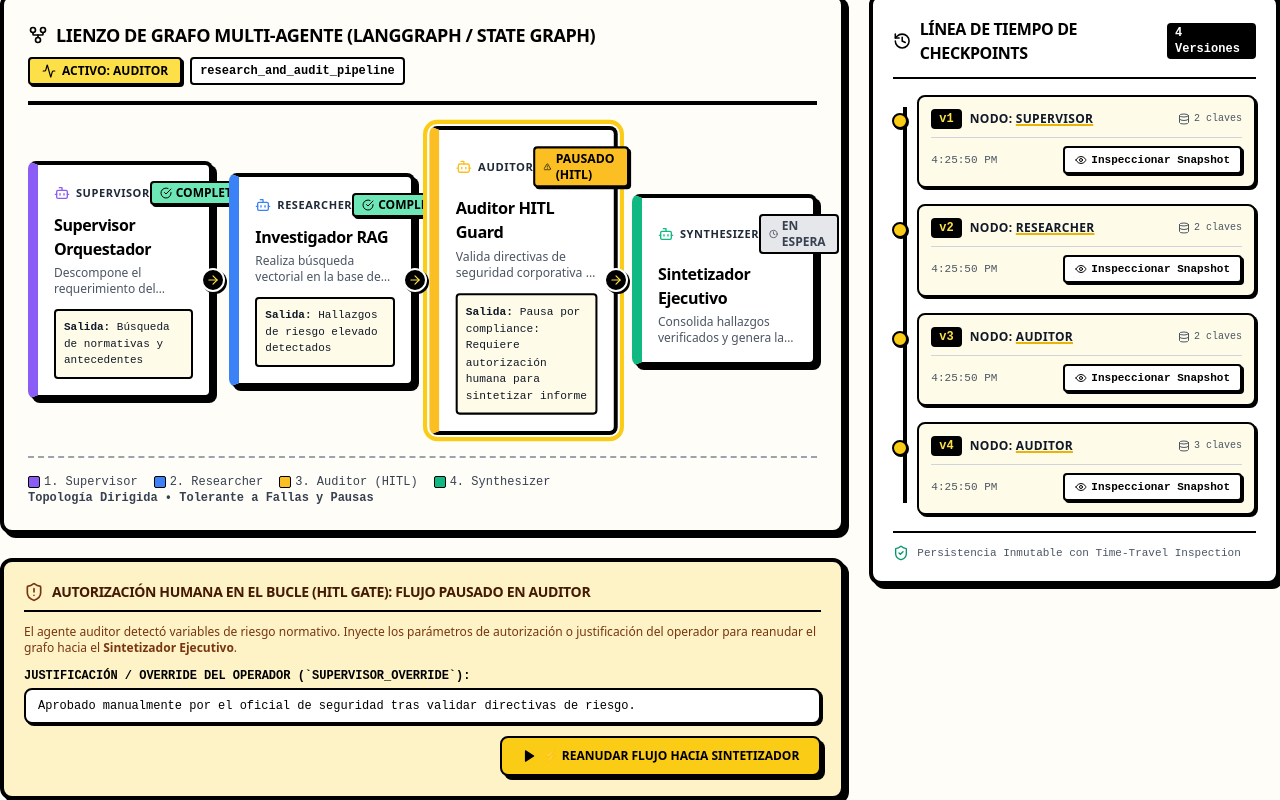
Test: WorkflowsDashboardPanel Component › allows resuming the paused workflow from the resume controls
(page scrolled)
Expected: the element with test id "workflow-resume-controls" is shown, [0,558,845,799]
Click the button "⚡ Reanudar Flujo hacia Sintetizador": (660,756) [500,736,821,776]
(page scrolled)
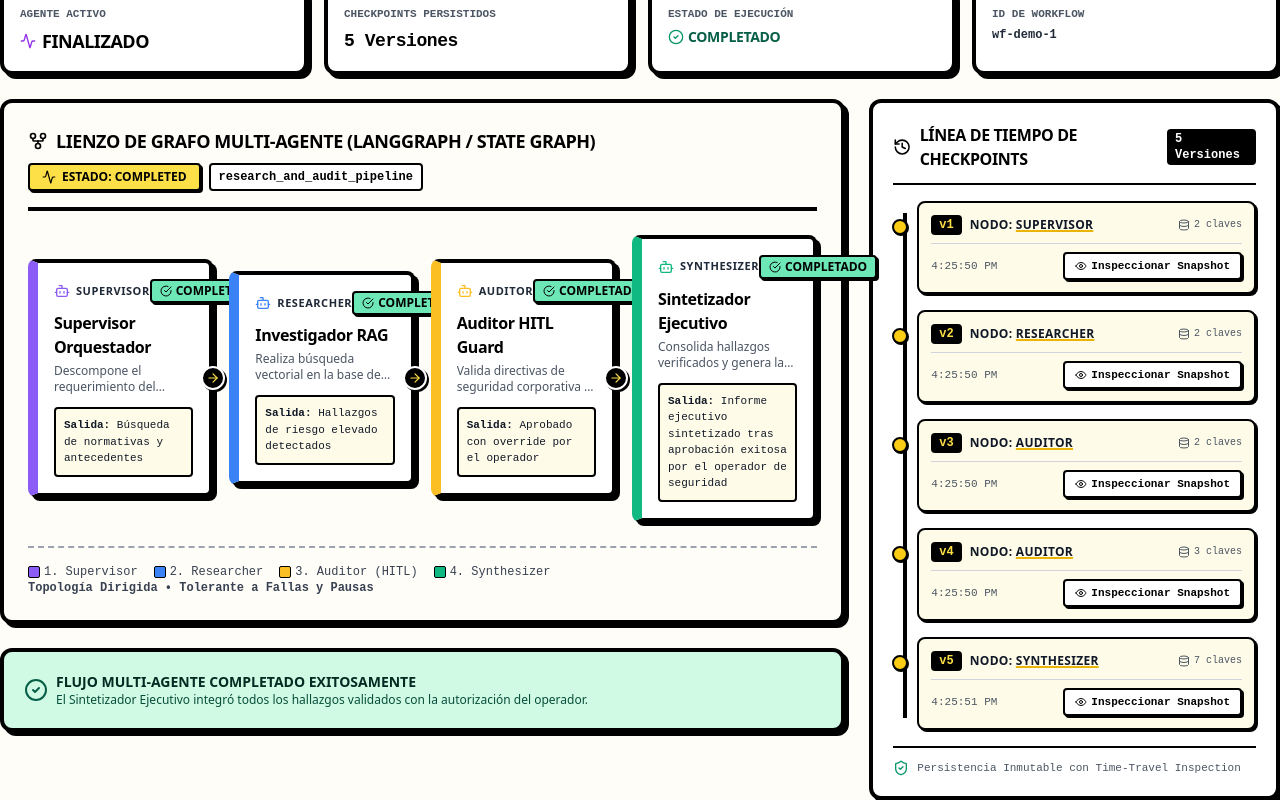
Result: the heading "Flujo Multi-Agente Completado Exitosamente" is shown at [56,672,416,690]
